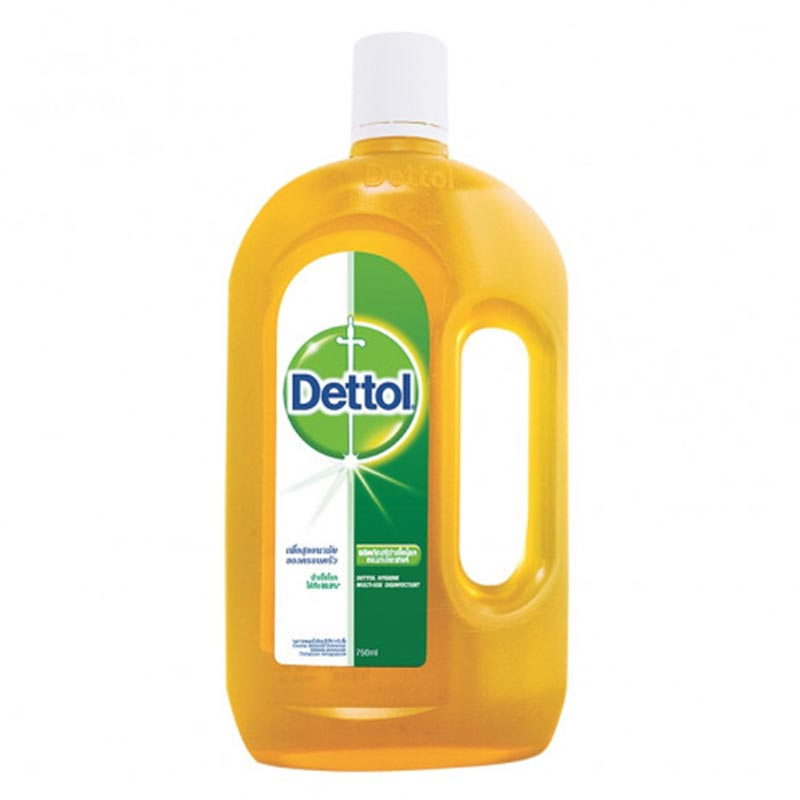Cleaning_solution: (211, 27, 578, 777)
